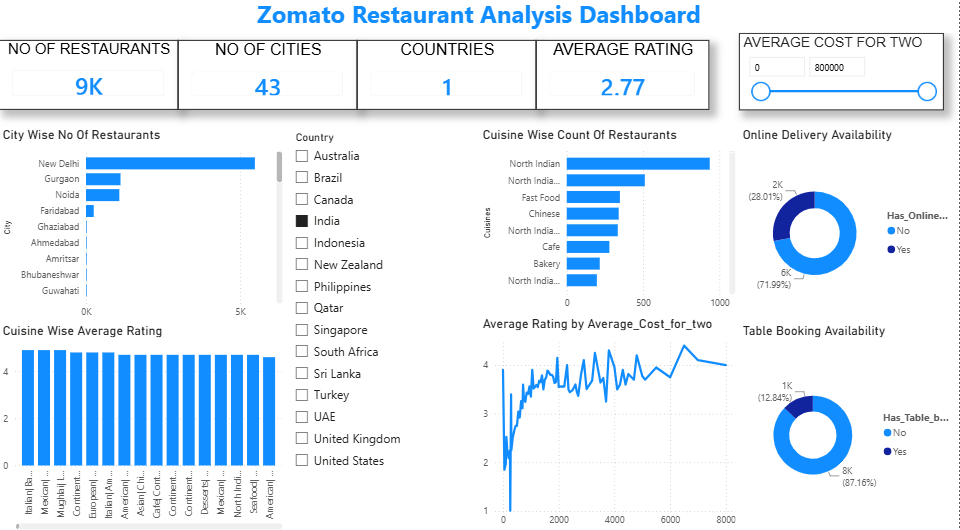

This screenshot's page, from the dashboard's own definition file:
{"tool":"powerbi","page":{"name":"DASHBOARD","canvas":[1280,720],"ordinal":0},"visuals":[{"type":"clusteredBarChart","title":"City Wise No Of Restaurants","fields":{"Category":["Restaurant_Data.City"],"Y":["Restaurant_Data.Restaurant Count"]},"box":[0,178.6,382.9,264.3],"z":0},{"type":"clusteredBarChart","title":"Cuisine Wise Count Of Restaurants","fields":{"Category":["Restaurant_Data.Cuisines"],"Y":["Restaurant_Data.Restaurant Count"]},"box":[640,178.7,346.7,252],"z":1000},{"type":"clusteredColumnChart","title":"Cuisine Wise Average Rating","fields":{"Category":["Restaurant_Data.Cuisines"],"Y":["Restaurant_Data.Average Rating"]},"box":[0,440,382.9,280],"z":2000},{"type":"lineChart","fields":{"Y":["Restaurant_Data.Average Rating"],"Category":["Restaurant_Data.Average_Cost_for_two"]},"box":[640,430,347.1,290],"z":3000},{"type":"donutChart","title":"Table Booking Availability","fields":{"Category":["Restaurant_Data.Has_Table_booking"],"Y":["Restaurant_Data.Restaurant Count"]},"box":[987.1,440,292.9,280],"z":4000},{"type":"donutChart","title":"Online Delivery Availability","fields":{"Category":["Restaurant_Data.Has_Online_delivery"],"Y":["Restaurant_Data.Restaurant Count"]},"box":[987.1,178.6,292.9,264.3],"z":5000},{"type":"slicer","title":"Country","fields":{"Values":["CountryCode.Country"]},"box":[382.9,178.6,222.9,481.4],"z":6000},{"type":"slicer","title":"AVERAGE COST FOR TWO","fields":{"Values":["Restaurant_Data.Average_Cost_for_two"]},"box":[987.1,62.9,270,107.1],"z":7000},{"type":"shape","box":[0,0,1280,40],"z":8000},{"type":"textbox","box":[0,0,1280,52.9],"z":9000},{"type":"cardVisual","title":"NO OF RESTAURANTS","fields":{"Data":["Restaurant_Data.No. of Restaurants"]},"box":[0,62.9,238.6,92.9],"z":10000},{"type":"cardVisual","title":"NO OF CITIES","fields":{"Data":["Restaurant_Data.No. of Cities"]},"box":[238.6,62.9,238.6,92.9],"z":11000},{"type":"cardVisual","title":"COUNTRIES","fields":{"Data":["Restaurant_Data.Countries"]},"box":[477.1,62.9,238.6,92.9],"z":12000},{"type":"cardVisual","title":"AVERAGE RATING","fields":{"Data":["Restaurant_Data.Average Rating"]},"box":[715.7,62.9,238.6,92.9],"z":13000}]}

Visuals, with their boxes in screenshot pixels (x1, y1, x2, y2), scaled from the page's 1280x720 canvas onto the 960x530 screenshot:
"City Wise No Of Restaurants" clusteredBarChart: x1=0, y1=131, x2=287, y2=326
"Cuisine Wise Count Of Restaurants" clusteredBarChart: x1=480, y1=132, x2=740, y2=317
"Cuisine Wise Average Rating" clusteredColumnChart: x1=0, y1=324, x2=287, y2=529
lineChart - Restaurant_Data.Average Rating x Restaurant_Data.Average_Cost_for_two: x1=480, y1=317, x2=740, y2=529
"Table Booking Availability" donutChart: x1=740, y1=324, x2=959, y2=529
"Online Delivery Availability" donutChart: x1=740, y1=131, x2=959, y2=326
"Country" slicer: x1=287, y1=131, x2=454, y2=486
"AVERAGE COST FOR TWO" slicer: x1=740, y1=46, x2=943, y2=125
shape: x1=0, y1=0, x2=959, y2=29
textbox: x1=0, y1=0, x2=959, y2=39
"NO OF RESTAURANTS" cardVisual: x1=0, y1=46, x2=179, y2=115
"NO OF CITIES" cardVisual: x1=179, y1=46, x2=358, y2=115
"COUNTRIES" cardVisual: x1=358, y1=46, x2=537, y2=115
"AVERAGE RATING" cardVisual: x1=537, y1=46, x2=716, y2=115
